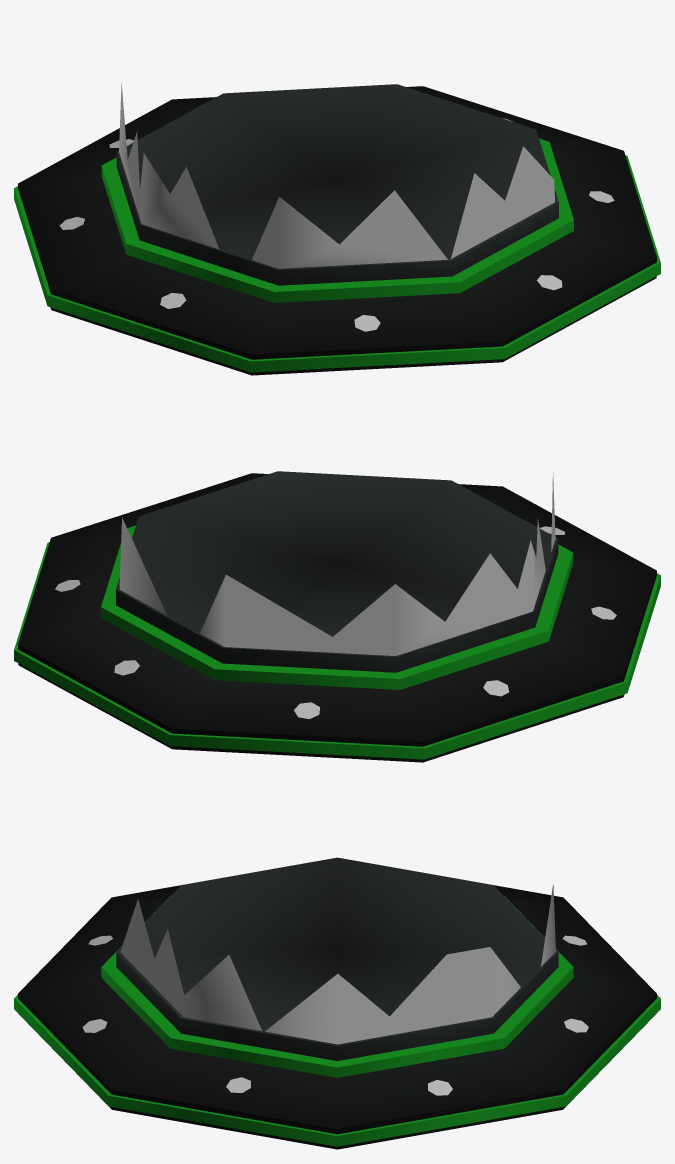
Rendered from hat_alienufo.glb.
3 views of the same model, one above another, from view 1: azimuth 30°, elevation 25°; view 2: azimuth 150°, elevation 25°; view 3: azimuth 270°, elevation 25° (orthographic). The views are drawn at different scales.
Visible parts, largest first — view 1: hat_alienufo; view 2: hat_alienufo; view 3: hat_alienufo.
Boxes of the visible parts, x1,y1,x2,y2 form: hat_alienufo: (14, 83, 660, 375); hat_alienufo: (14, 471, 660, 762); hat_alienufo: (14, 857, 660, 1149).
Bounding box in the file's own units: 0.8146 × 0.2783 × 0.8146.
